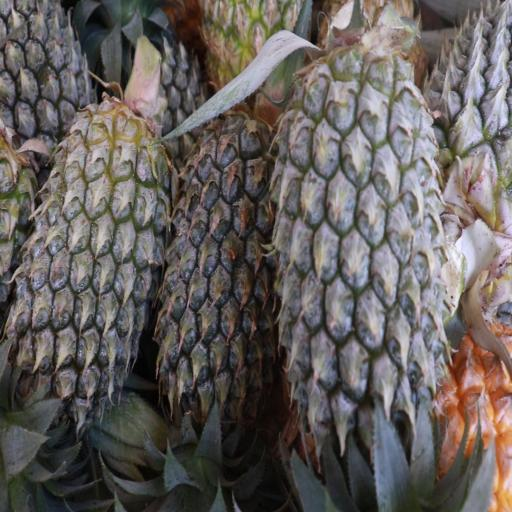------------------------------: (198, 0, 308, 113)
